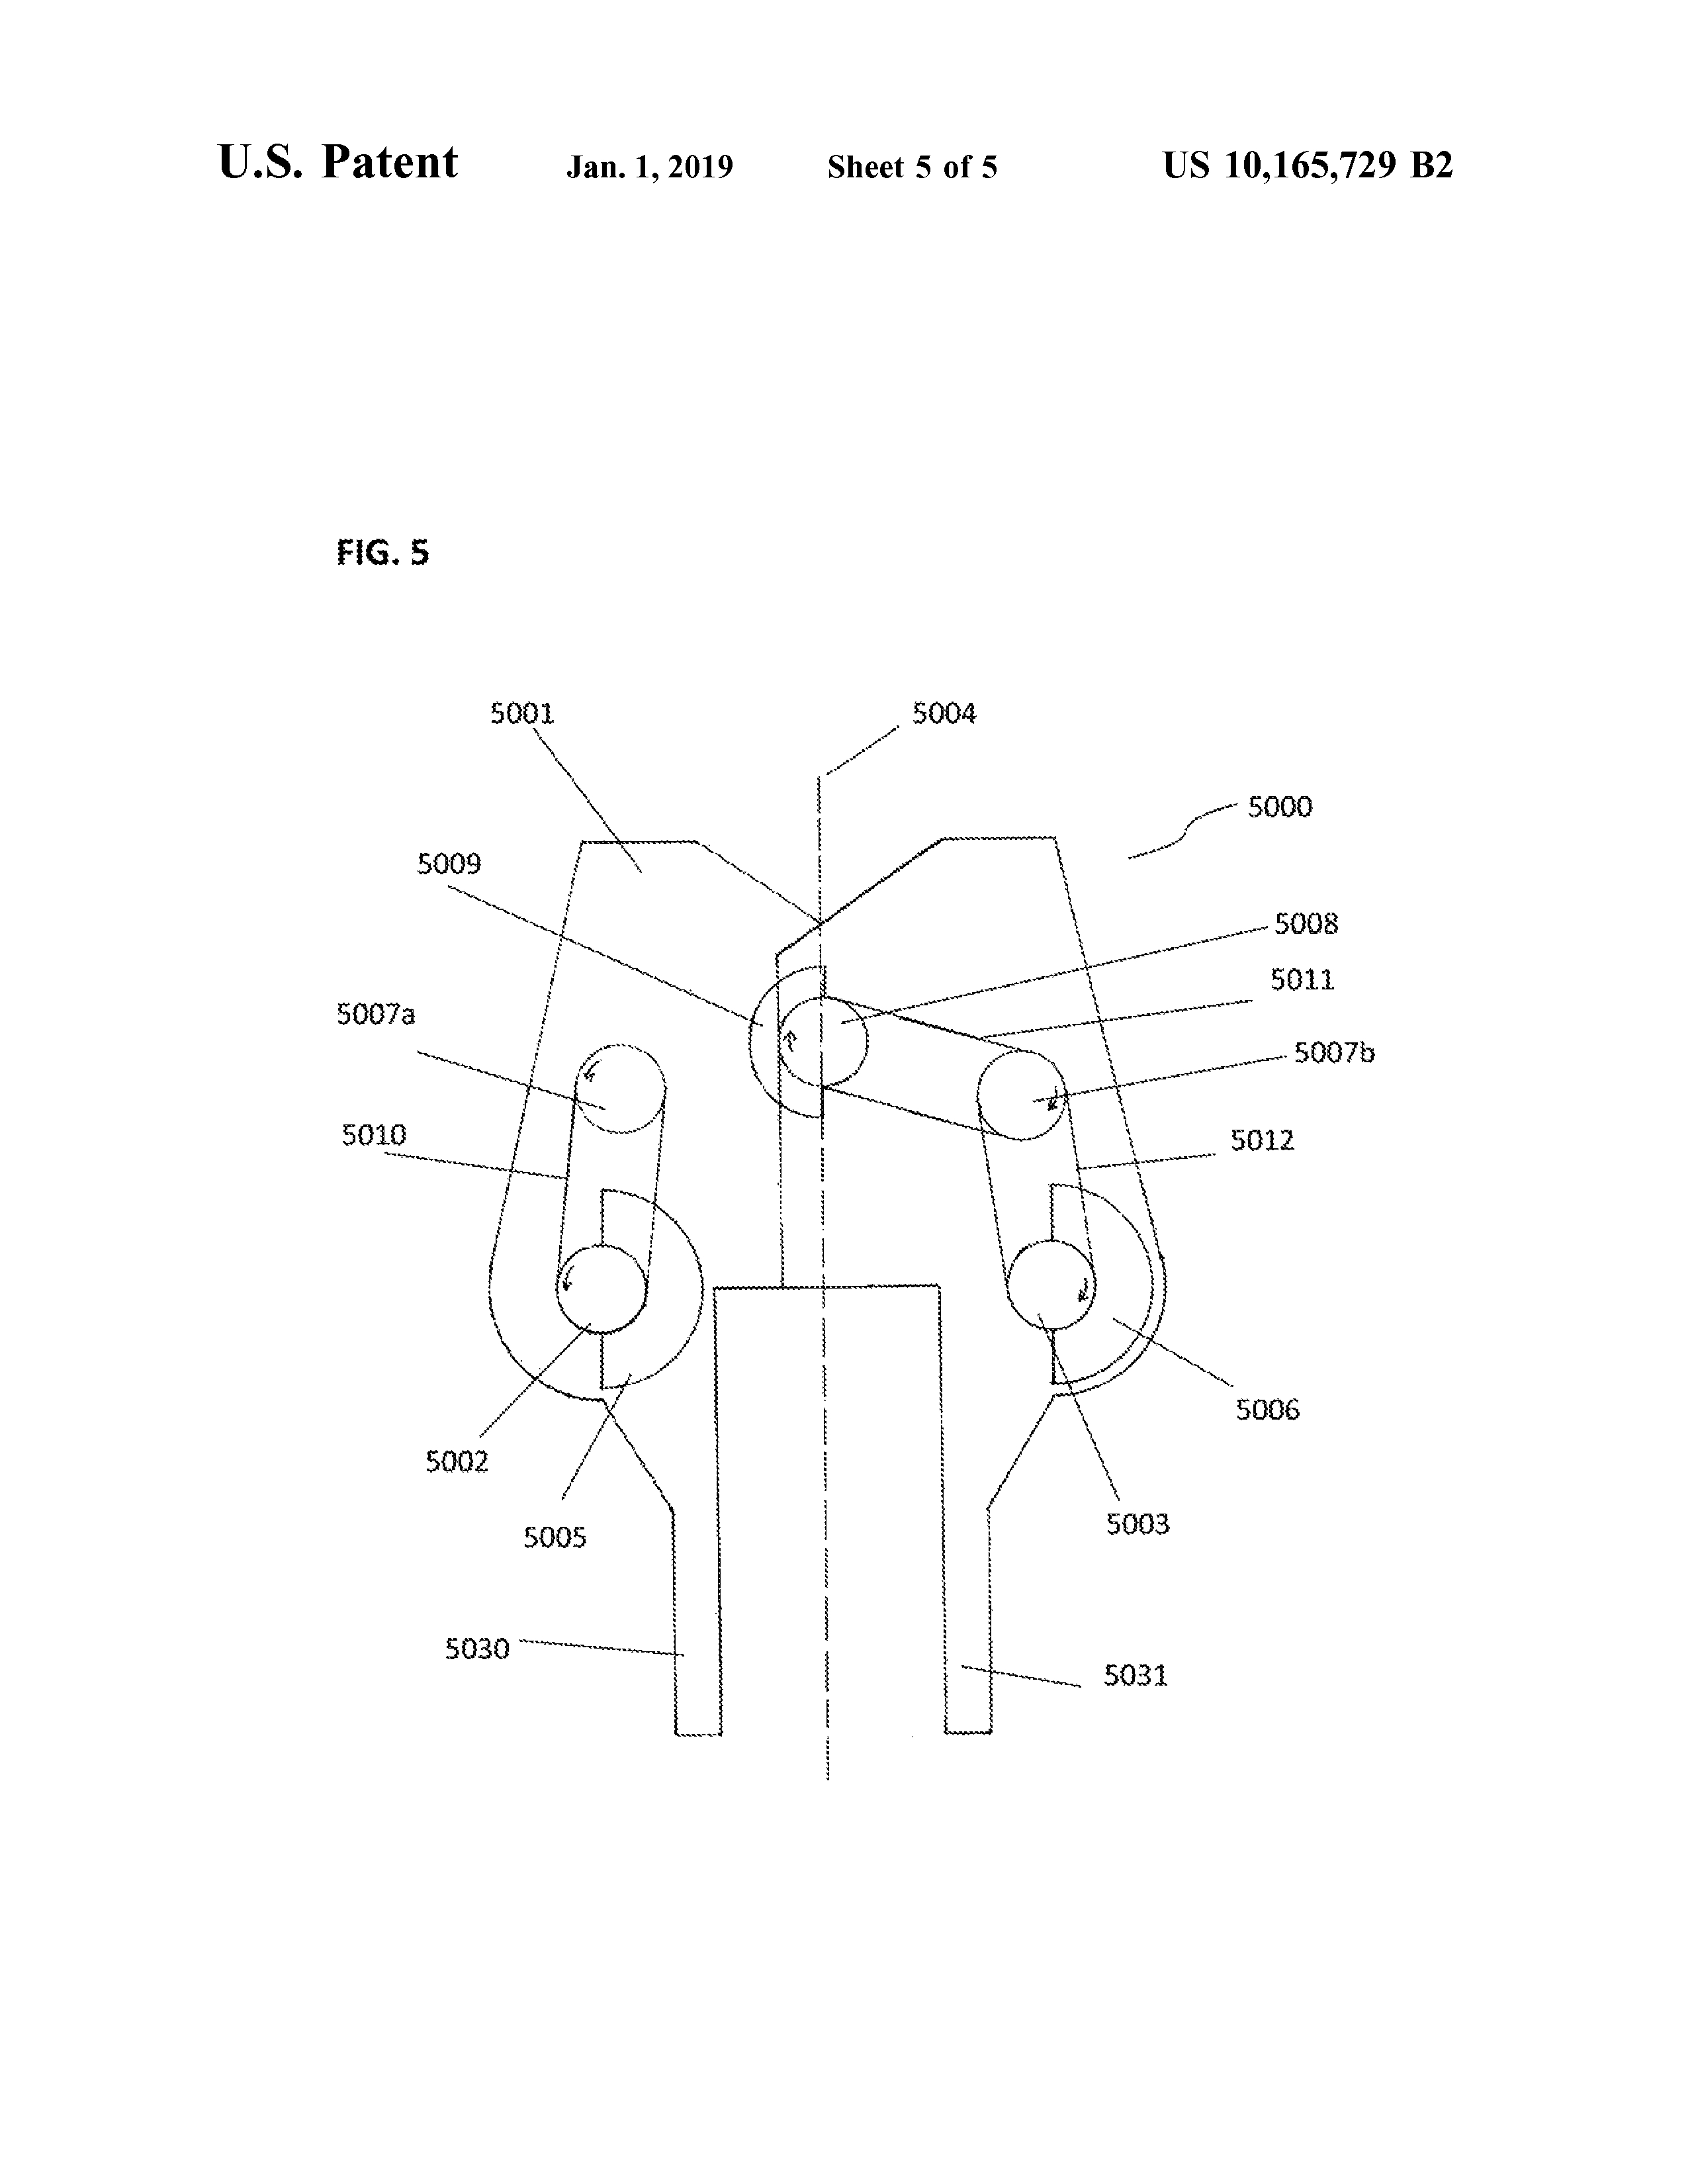patent image: (304, 509, 1398, 1772)
